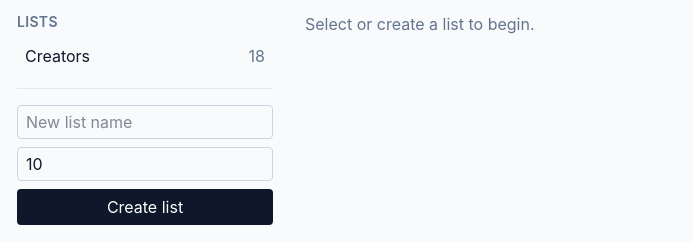
it: WaitingListsView › disables Take with a reason when the list is empty
What coordinates should you click on to do the following:
click the button "Creators 18"
I would click on:
 (145, 56)
Its box is top-left (17, 40), bottom-right (273, 72).
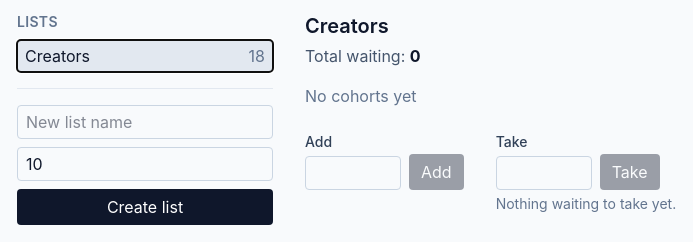
Expected: the button "Take" is disabled, top-left (600, 154), bottom-right (660, 190)
Expected: the text "Nothing waiting to take yet." is shown, top-left (496, 194), bottom-right (676, 214)
